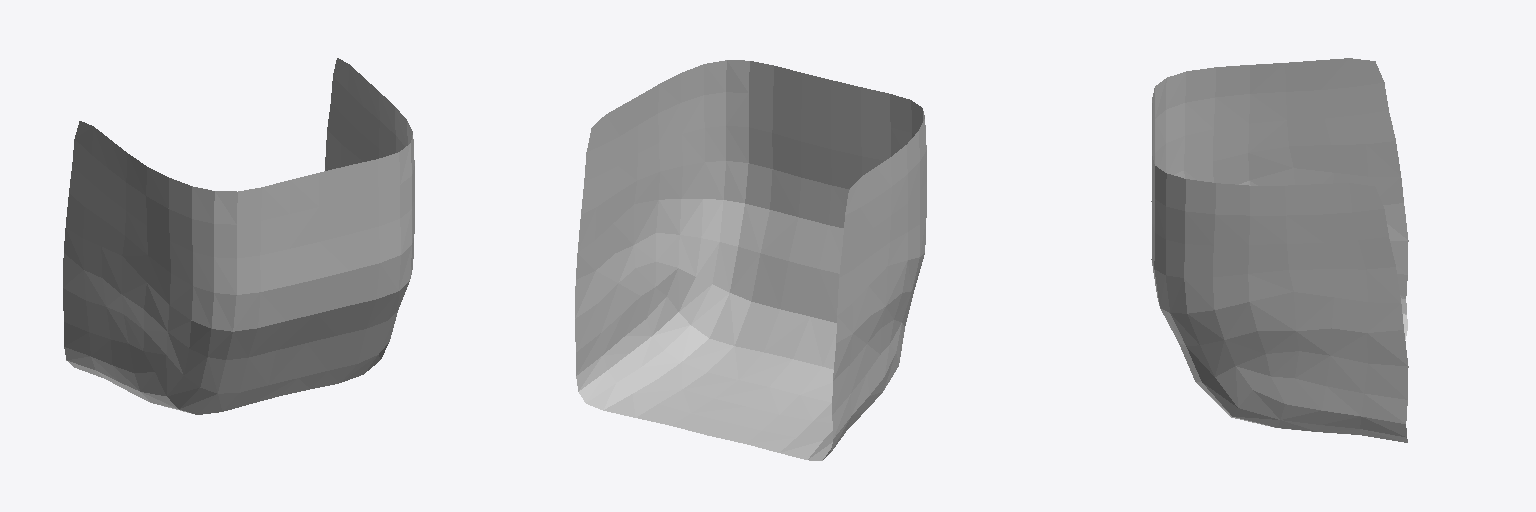
The model's file is Rock-type2-1.obj.
3 views of the same model, side by side, from view 1: azimuth 30°, elevation 25°; view 2: azimuth 150°, elevation 25°; view 3: azimuth 270°, elevation 25° (orthographic).
Visible parts, largest first — view 1: Group5792; view 2: Group5792; view 3: Group5792.
Part boxes in pixels (bbox=[...]): Group5792: bbox=[63, 58, 414, 414]; Group5792: bbox=[575, 60, 926, 460]; Group5792: bbox=[1151, 58, 1408, 442].
Bounding box in the file's own units: 1.8 × 1.79 × 1.54.